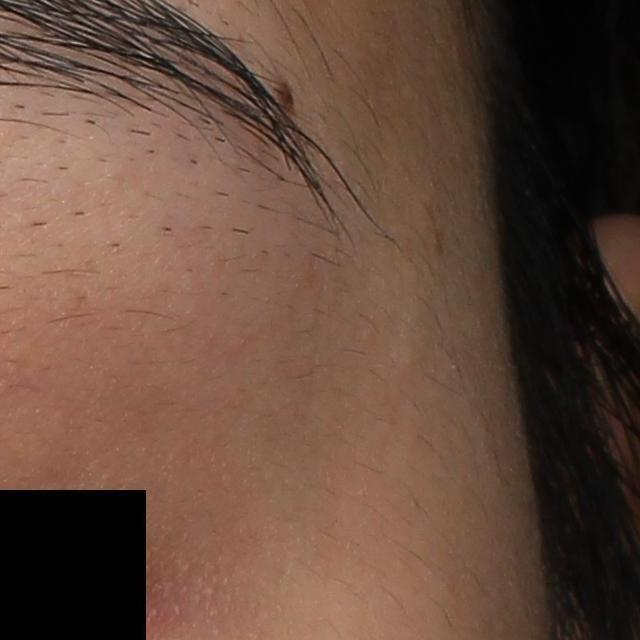nevus: (279, 82, 297, 114)
